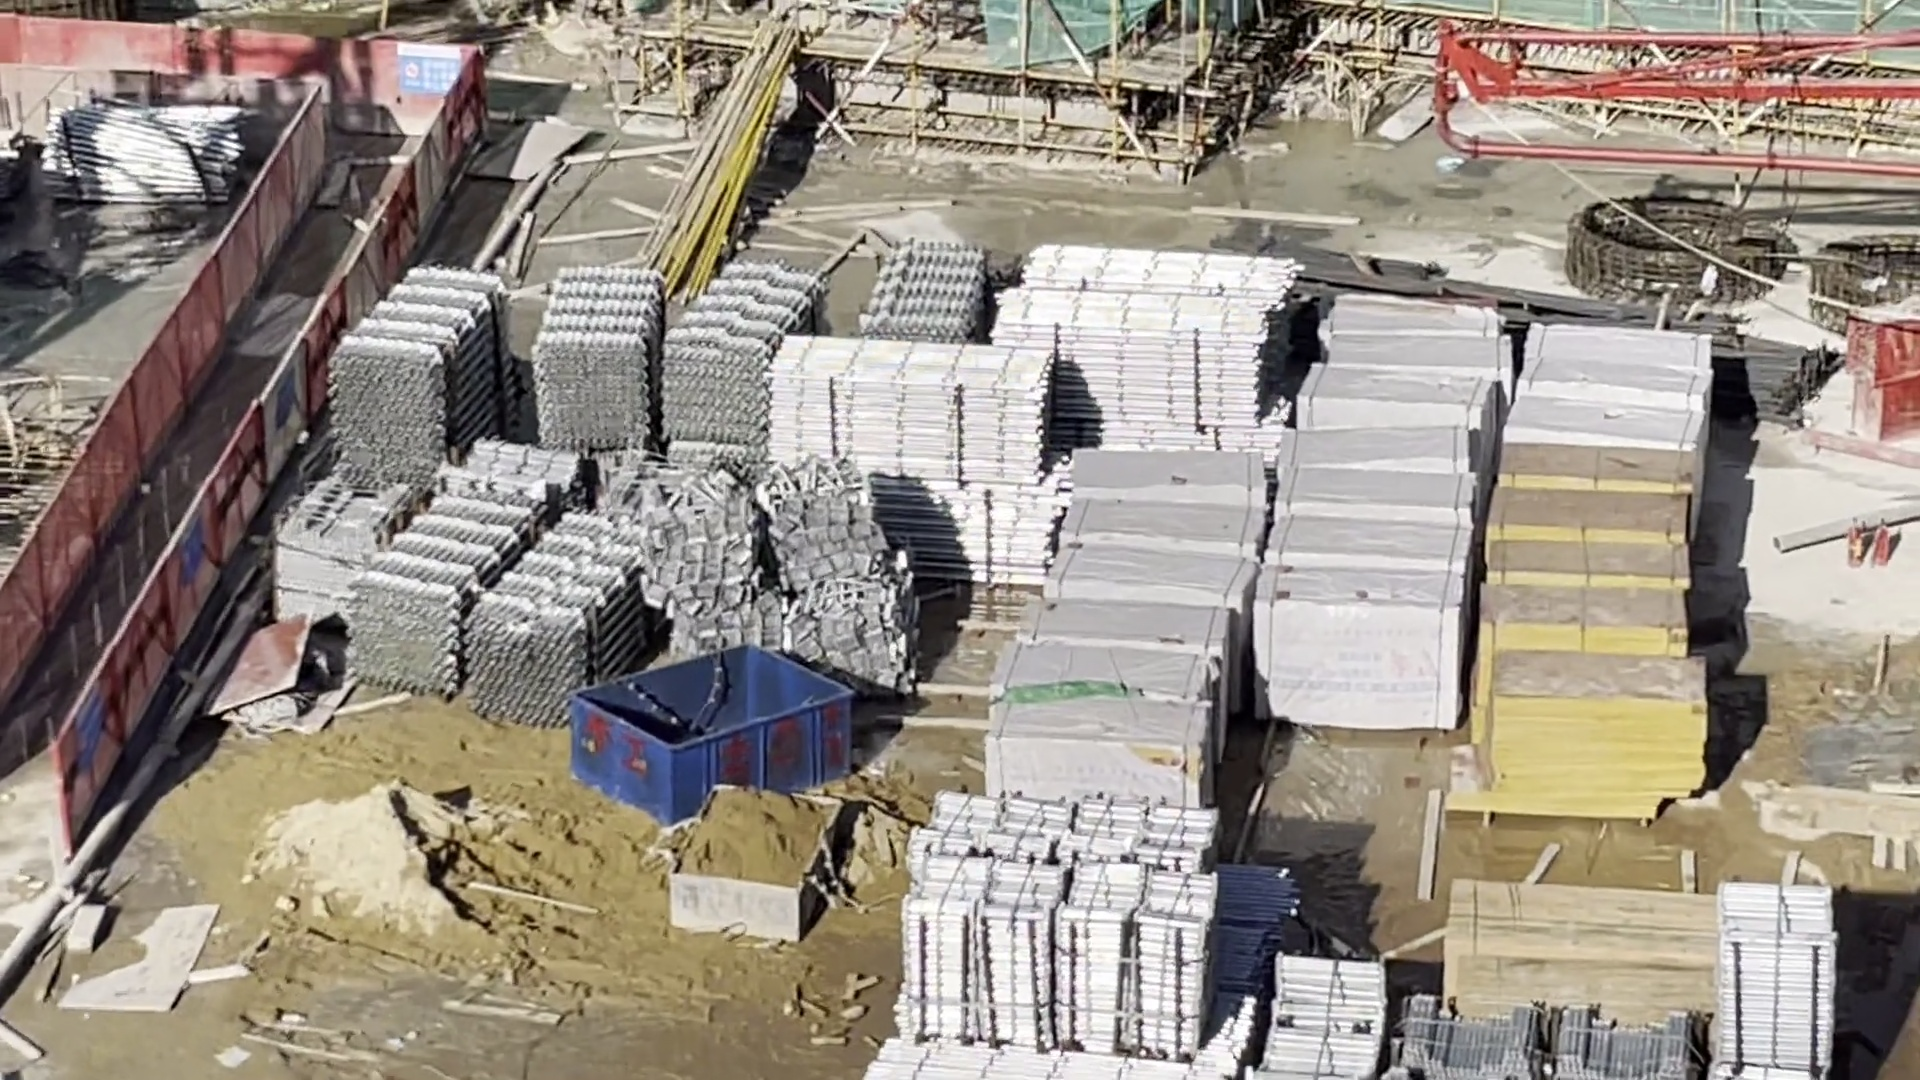board: (1478, 458, 1704, 824), (1447, 873, 1716, 1018)
fence: (1, 111, 444, 819), (1, 11, 396, 108)
hopper: (571, 642, 851, 825), (669, 783, 847, 939)
rebar: (1350, 266, 1832, 418)
scaffold: (901, 796, 1211, 1062), (774, 342, 1054, 574), (365, 506, 650, 715), (998, 243, 1300, 415), (539, 264, 816, 450), (328, 272, 512, 476), (1398, 1001, 1691, 1080), (1721, 872, 1829, 1080), (40, 108, 237, 206), (1242, 957, 1389, 1080), (865, 1047, 1263, 1079), (866, 245, 981, 345)
slogan: (397, 46, 465, 99), (74, 692, 100, 769), (182, 518, 208, 589)
